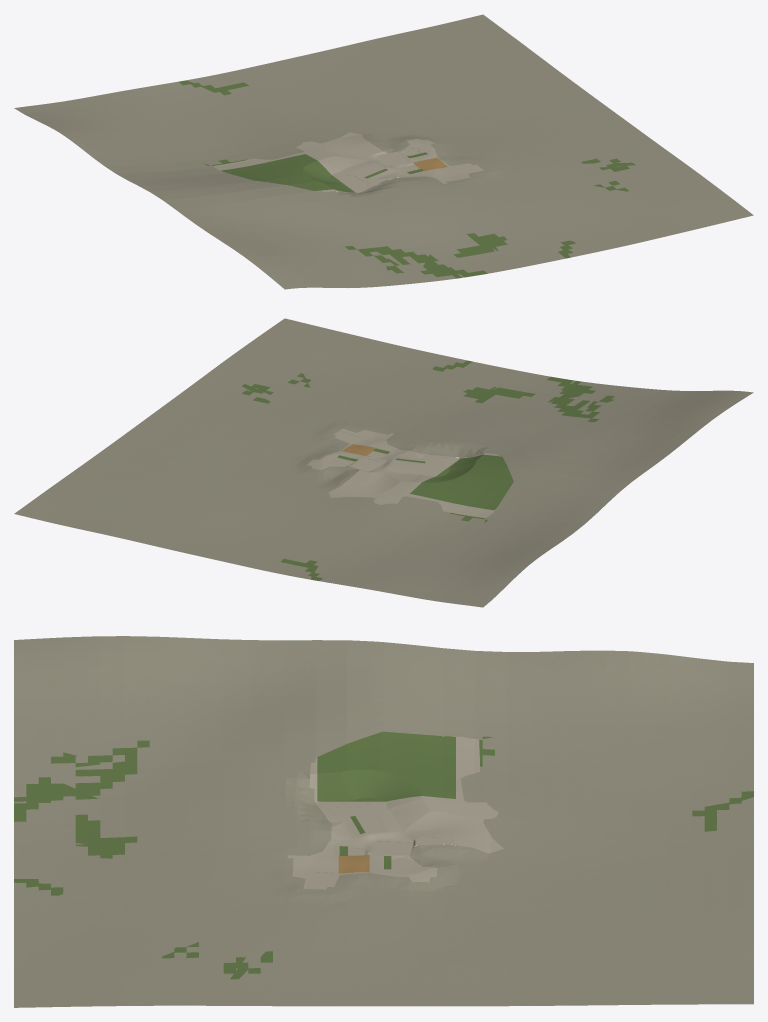
The picture shows the model from 3 angles, top to bottom: view 1: azimuth 30°, elevation 25°; view 2: azimuth 150°, elevation 25°; view 3: azimuth 270°, elevation 25°; orthographic projection. The views are drawn at different scales.
Visible parts, largest first — view 1: ground_context-estimated, surface_shared-paved-walk, surface_west-trees; view 2: ground_context-estimated, surface_shared-paved-walk, surface_west-trees; view 3: ground_context-estimated, surface_shared-paved-walk, surface_west-trees.
Boxes of the visible parts, box(x1,y1,x2,y2) form: ground_context-estimated: box(14, 14, 753, 289); surface_shared-paved-walk: box(213, 132, 483, 193); surface_west-trees: box(221, 154, 355, 192); ground_context-estimated: box(14, 318, 753, 607); surface_shared-paved-walk: box(308, 428, 502, 518); surface_west-trees: box(410, 454, 513, 510); ground_context-estimated: box(14, 636, 753, 1007); surface_shared-paved-walk: box(287, 736, 503, 889); surface_west-trees: box(317, 731, 455, 801).
Size of the model in its own units: 720 by 63.46 by 720.
5 materials, 4 textured.
